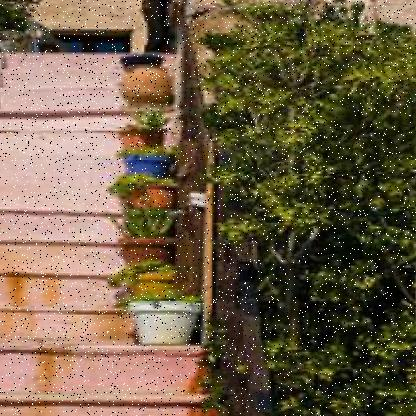stair_up: (0, 205, 210, 416)
